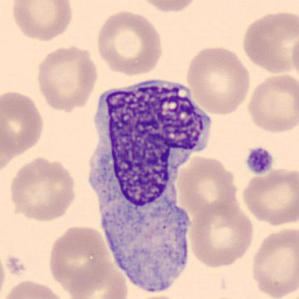Monocyte: (80, 58, 212, 294)
Platelets: (243, 145, 275, 176)
RBC: (183, 43, 252, 116), (93, 8, 165, 77), (187, 200, 256, 270), (7, 155, 78, 223), (46, 222, 111, 294), (34, 43, 100, 112), (173, 153, 240, 217), (239, 7, 297, 76), (248, 224, 298, 299), (240, 166, 298, 227), (245, 71, 299, 135), (0, 88, 47, 157), (8, 0, 76, 43), (66, 258, 130, 299), (0, 277, 69, 299), (0, 105, 20, 180), (133, 0, 202, 15), (288, 30, 299, 83), (0, 244, 7, 298), (127, 293, 187, 299)
